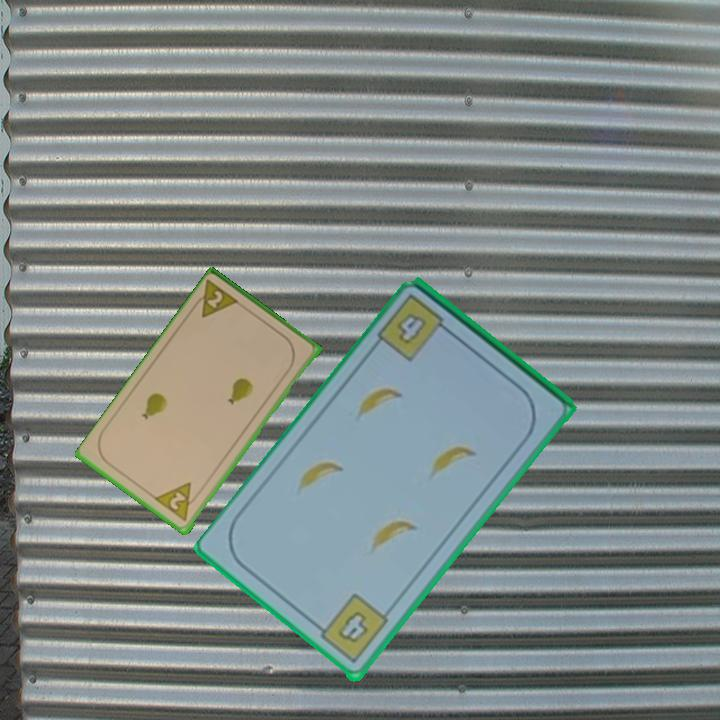2p: (188, 277, 243, 321), (152, 479, 203, 525)
4b: (310, 591, 391, 668), (374, 290, 456, 365)
